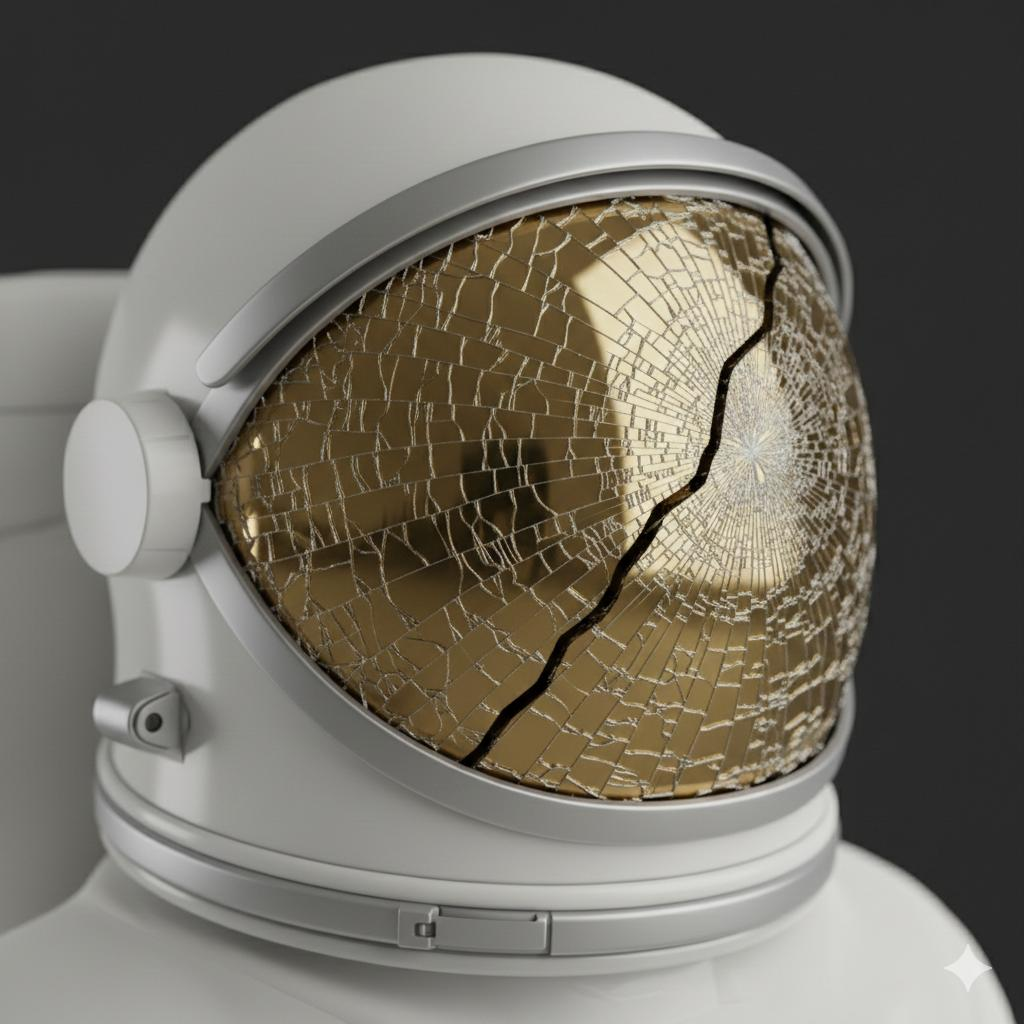crack: (240, 152, 899, 806)
